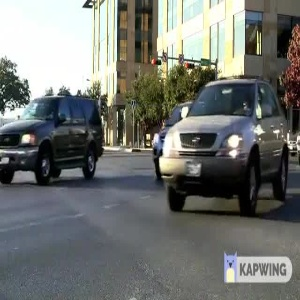suv: (164, 72, 295, 213), (1, 95, 111, 180)
